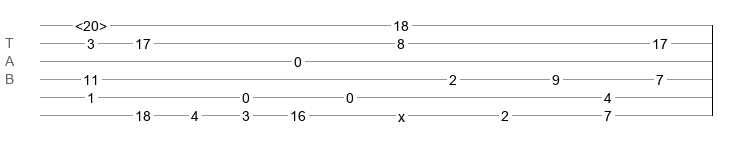0: (242, 90, 250, 100), (294, 54, 302, 64), (346, 90, 354, 100)
1: (87, 90, 95, 100)
11: (83, 72, 99, 82)
16: (290, 108, 306, 118)
17: (135, 36, 151, 46), (652, 36, 668, 46)
18: (135, 108, 151, 118), (393, 18, 409, 28)
2: (449, 72, 457, 82), (501, 108, 509, 118)
3: (87, 36, 95, 46), (242, 108, 250, 118)
4: (191, 108, 199, 118), (604, 90, 612, 100)
7: (604, 108, 612, 118), (656, 72, 664, 82)
8: (397, 36, 405, 46)
9: (552, 72, 560, 82)
harmonic: (75, 18, 107, 28)
x: (398, 109, 405, 117)
